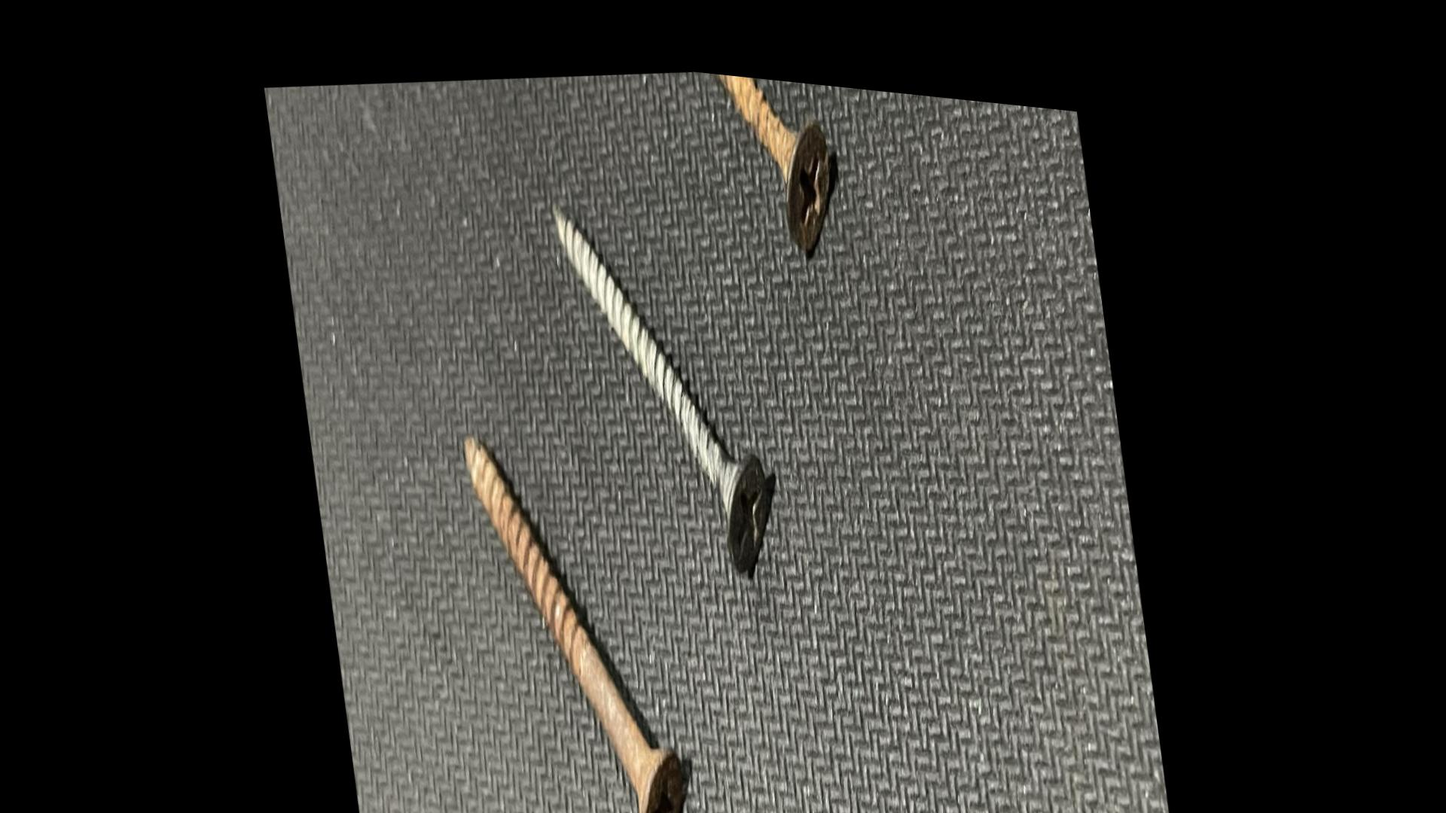screw: (537, 141, 809, 637), (419, 365, 701, 813), (662, 54, 896, 344)
